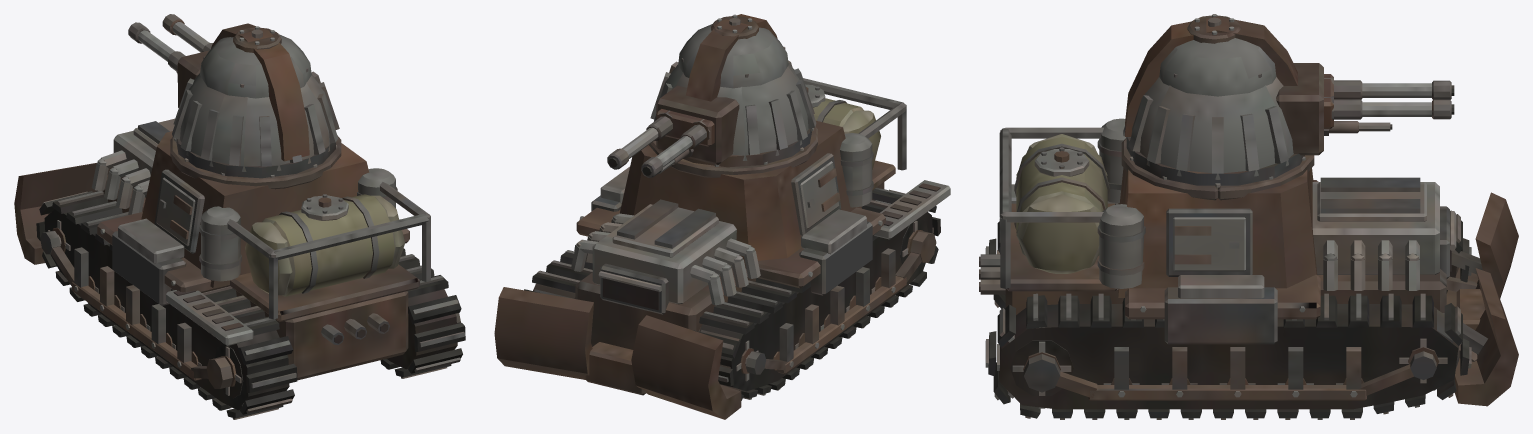
The model's file is tank.glb.
3 views of the same model, side by side, from view 1: azimuth 30°, elevation 25°; view 2: azimuth 150°, elevation 25°; view 3: azimuth 270°, elevation 25° (orthographic). The views are drawn at different scales.
Visible parts, largest first — view 1: body, anim_turret_head, anim_tread_l, anim_tread_r, anim_turret_barrel, anim_wheel_track.006; view 2: body, anim_turret_head, anim_tread_l, anim_turret_barrel, anim_tread_r, anim_wheel_track.006, anim_wheel_track.005; view 3: body, anim_turret_head, anim_tread_r, anim_turret_barrel, anim_wheel_track.013, anim_tread_l, anim_wheel_track.012, anim_turret_coax.
Part boxes in pixels (x1,y1,x2,y2): body: [14, 118, 460, 410]; anim_turret_head: [172, 23, 339, 178]; anim_tread_l: [36, 191, 297, 419]; anim_tread_r: [380, 248, 465, 378]; anim_turret_barrel: [128, 14, 212, 71]; anim_wheel_track.006: [215, 344, 244, 407]; body: [494, 78, 950, 419]; anim_turret_head: [650, 14, 816, 167]; anim_tread_l: [693, 187, 940, 400]; anim_turret_barrel: [607, 116, 706, 177]; anim_tread_r: [524, 239, 592, 293]; anim_wheel_track.006: [875, 200, 933, 281]; anim_wheel_track.005: [700, 330, 758, 390]; body: [979, 118, 1518, 409]; anim_turret_head: [1123, 14, 1333, 185]; anim_tread_r: [985, 293, 1471, 419]; anim_turret_barrel: [1334, 80, 1454, 119]; anim_wheel_track.013: [997, 327, 1073, 408]; anim_tread_l: [985, 210, 1471, 308]; anim_wheel_track.012: [1399, 310, 1459, 390]; anim_turret_coax: [1329, 121, 1392, 133].
Size of the model in its own units: 1.92 by 2.27 by 3.26.
2 materials, 2 textured.
